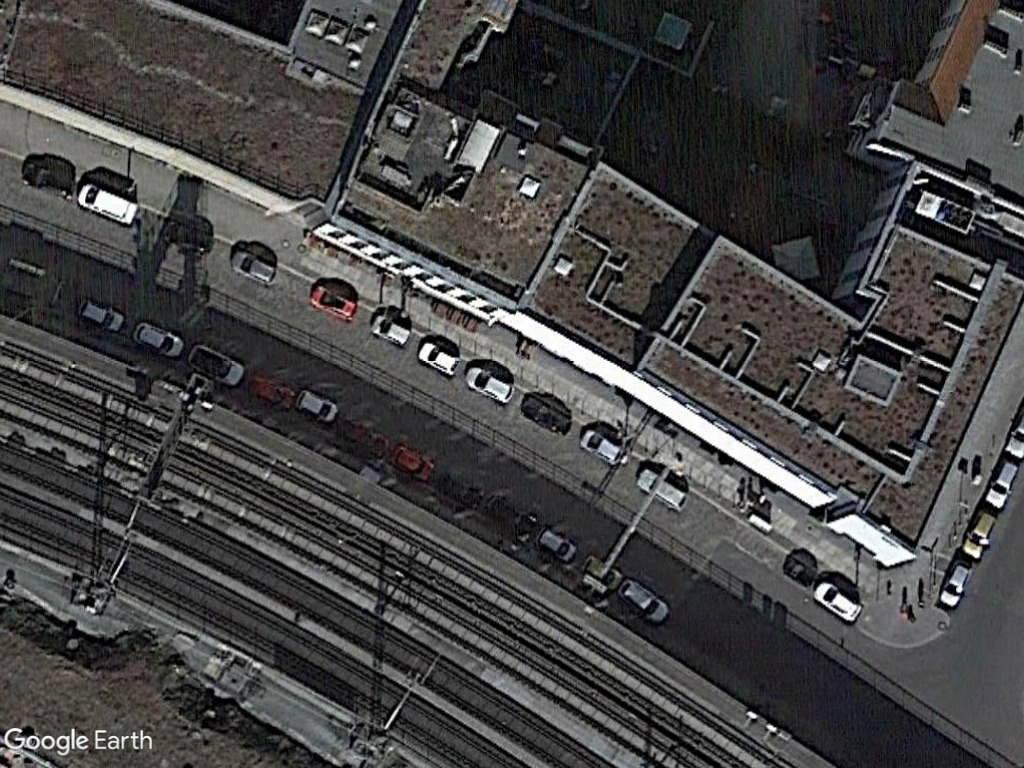car: (632, 460, 694, 515), (615, 571, 674, 627), (804, 577, 866, 628), (184, 339, 247, 389), (461, 359, 519, 408), (953, 504, 1002, 561), (224, 246, 285, 290), (130, 316, 187, 360), (932, 559, 981, 610), (385, 440, 437, 488), (304, 280, 360, 324), (979, 457, 1023, 513), (578, 427, 632, 472), (69, 296, 128, 336), (288, 386, 344, 426), (579, 551, 629, 595), (415, 338, 466, 381), (536, 525, 583, 566), (364, 311, 415, 348)
van: (72, 179, 144, 229)
